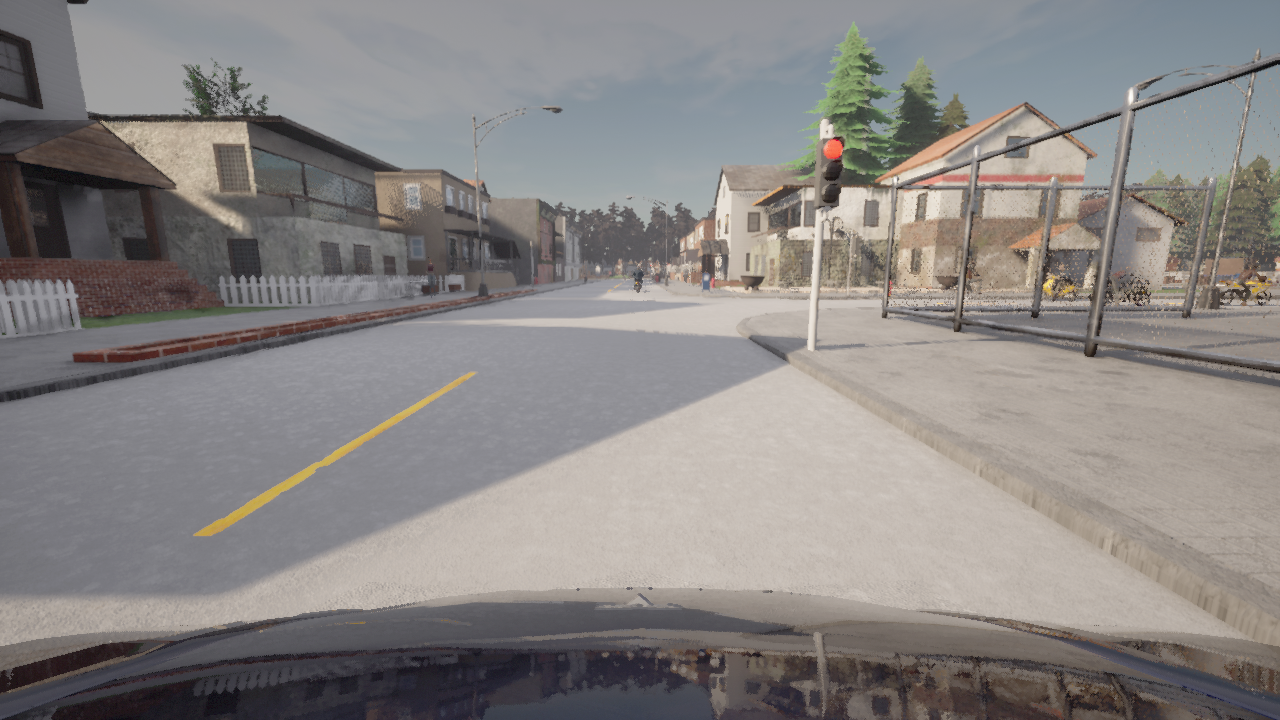cyclist: (0, 588, 1279, 719), (1089, 273, 1154, 306), (1215, 274, 1277, 305), (948, 279, 996, 306), (1041, 273, 1079, 300), (635, 273, 644, 291)
pedestrian: (425, 256, 438, 298), (682, 266, 688, 284)
